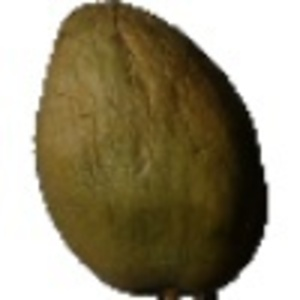mamão: (25, 2, 272, 294)
